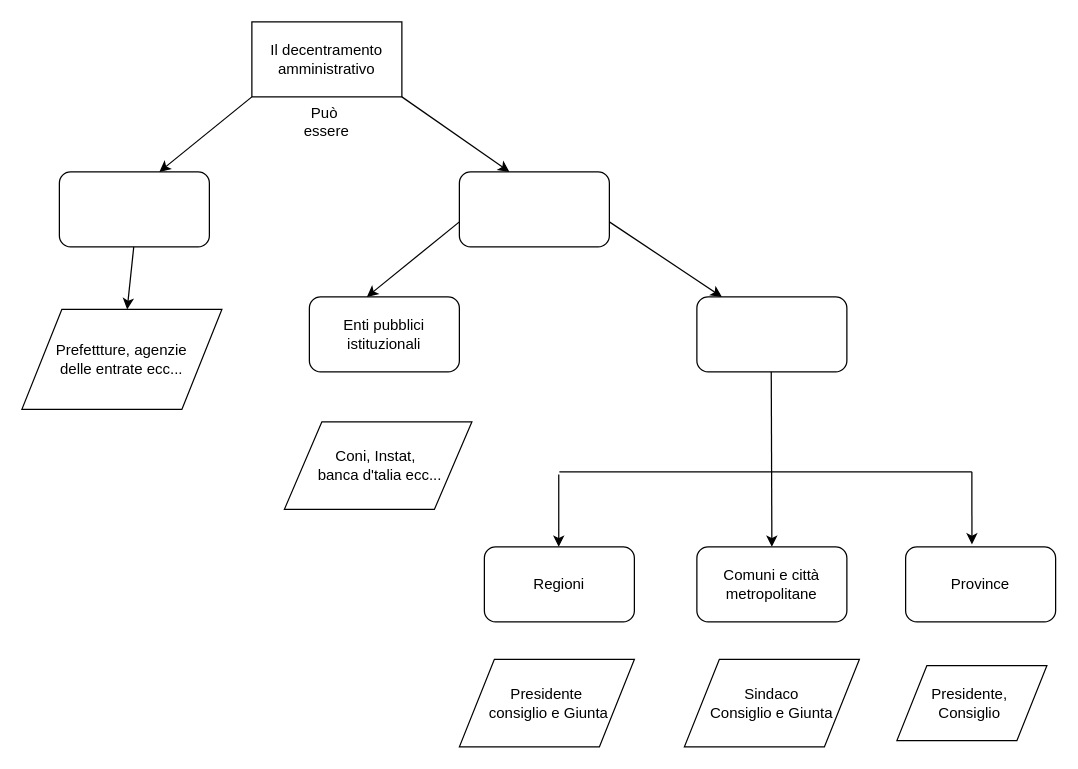
The diagram is 1078 pixels wide and 769 high, and some of its shapes have lost their labels. Here are the shapes that lost their labels. From the top down, the centre of each, then its label:
the point at 133,209: Burocratico
the point at 533,209: Autartico
the point at 771,334: Enti pubblici Territoriali
